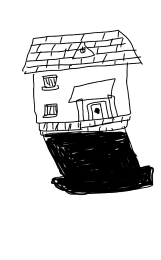closed_window: (41, 73, 62, 94), (42, 101, 62, 119)
door: (72, 92, 121, 121)
roof: (14, 26, 146, 76)
shadow: (39, 125, 157, 201)
wall: (24, 62, 140, 127)
